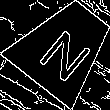N_NE: (32, 15, 97, 80)
